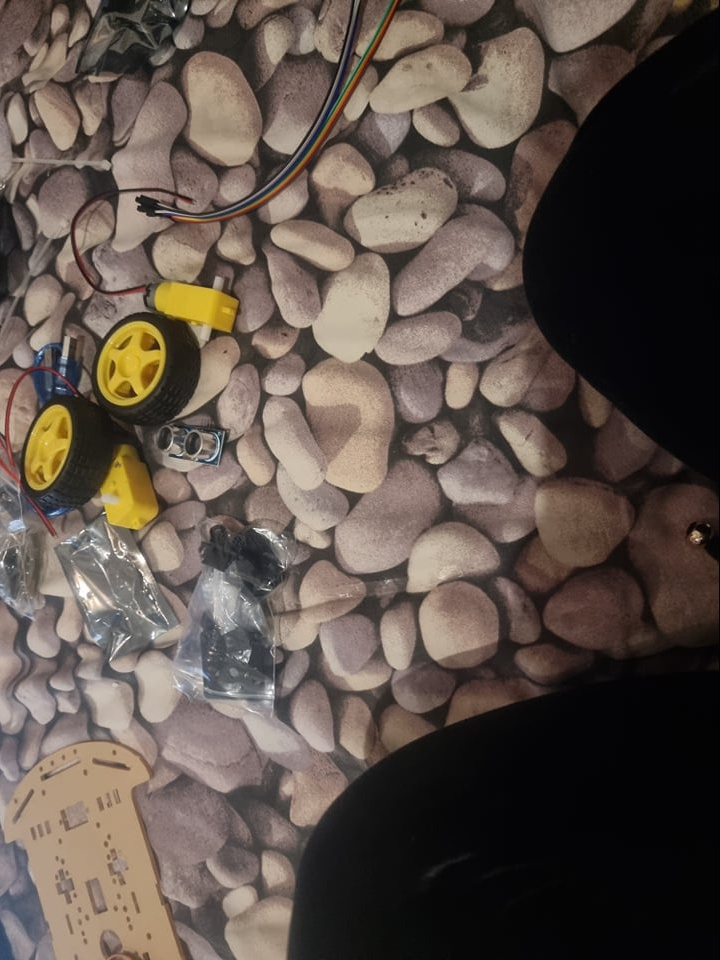SENSOR: (158, 422, 228, 465)
